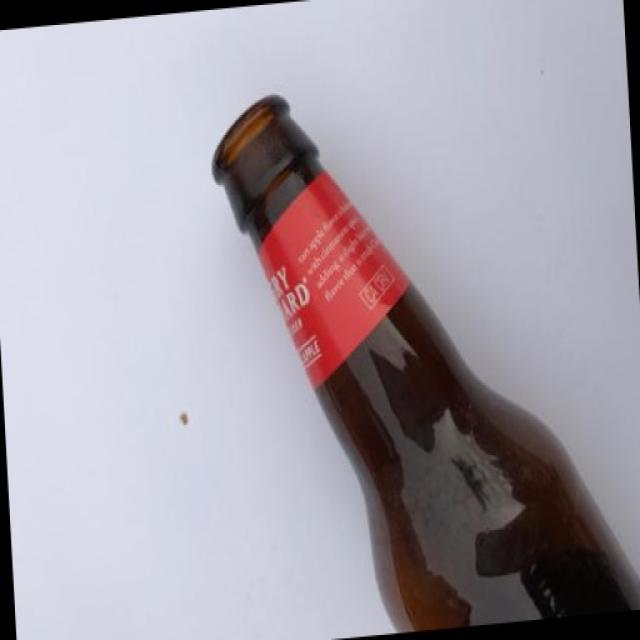vidrio: (181, 75, 640, 640)
